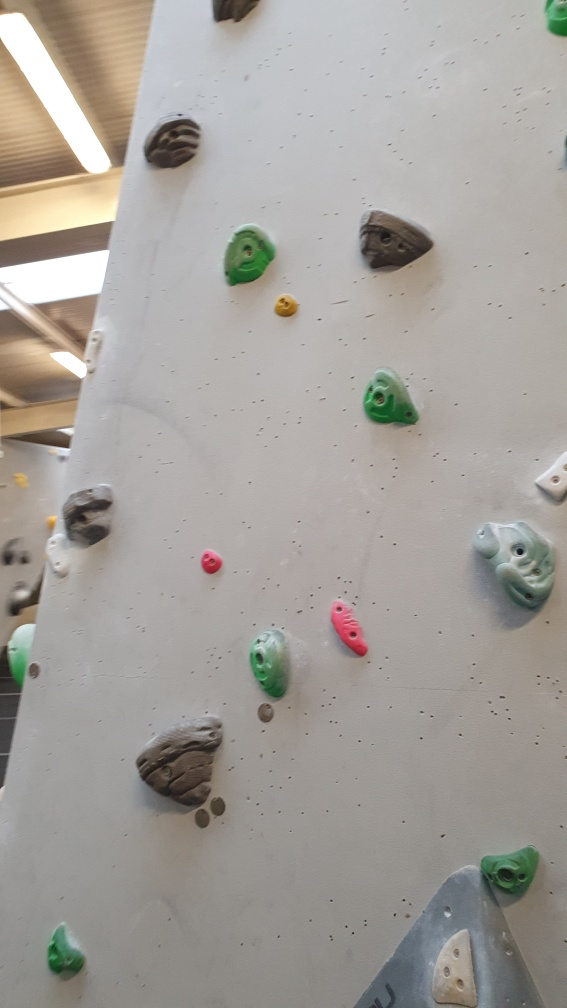Hand Start: (191, 805, 212, 831), (252, 701, 276, 721), (209, 795, 227, 816), (27, 663, 41, 677)
Jug: (471, 516, 560, 614), (137, 709, 222, 805), (359, 205, 437, 273), (219, 220, 282, 290), (58, 479, 119, 548), (361, 366, 427, 426), (140, 111, 202, 170), (247, 623, 288, 702)
Pinch: (196, 547, 226, 579)
